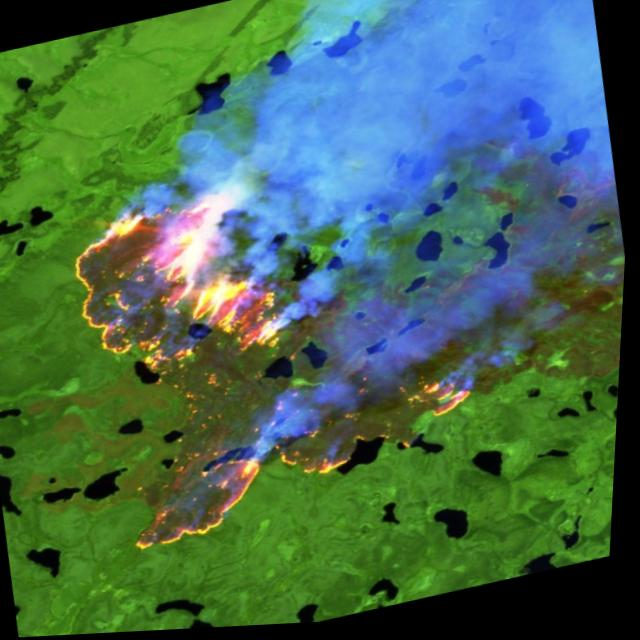fire: (58, 132, 506, 566)
